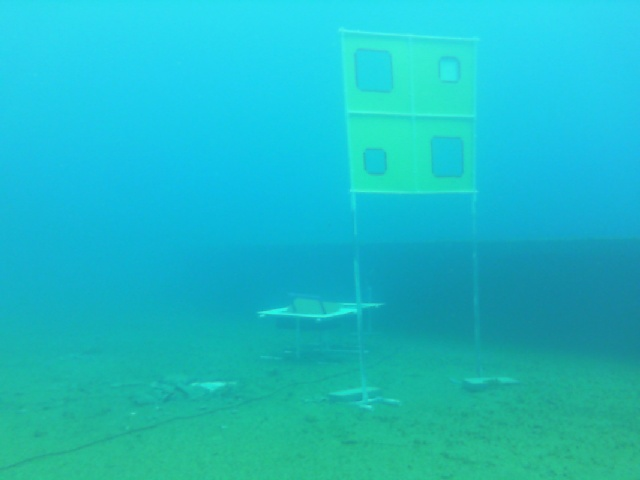torpedo_cover: (438, 55, 462, 87)
torpedo_hole: (355, 47, 397, 95), (429, 133, 467, 182), (364, 148, 389, 176), (439, 60, 460, 85)
torpedo_target: (339, 30, 478, 195)
